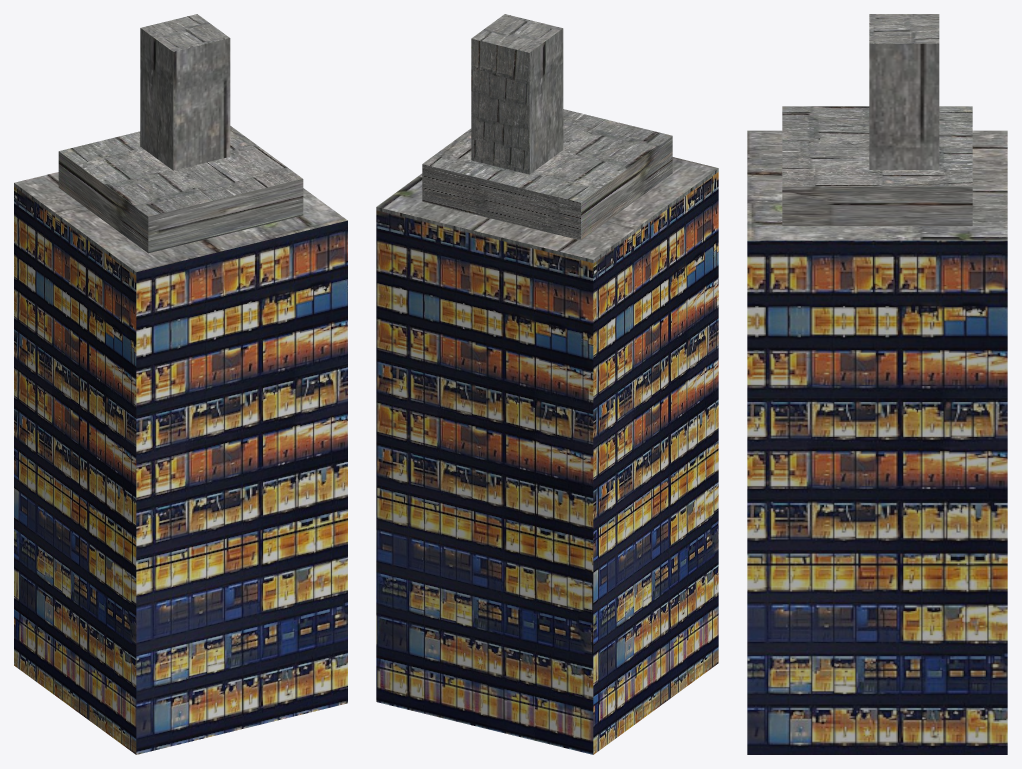
Rendered from dom.fbx.
The picture shows the model from 3 angles, left to right: view 1: azimuth 30°, elevation 25°; view 2: azimuth 150°, elevation 25°; view 3: azimuth 270°, elevation 25°; orthographic projection. The views are drawn at different scales.
Parts seen in each view (by area): view 1: Cube; view 2: Cube; view 3: Cube.
Part boxes in pixels (x1,y1,x2,y2): Cube: (14,14,347,754); Cube: (376,14,718,754); Cube: (747,14,1007,754).
Size of the model in its own units: 200 by 576 by 200.
